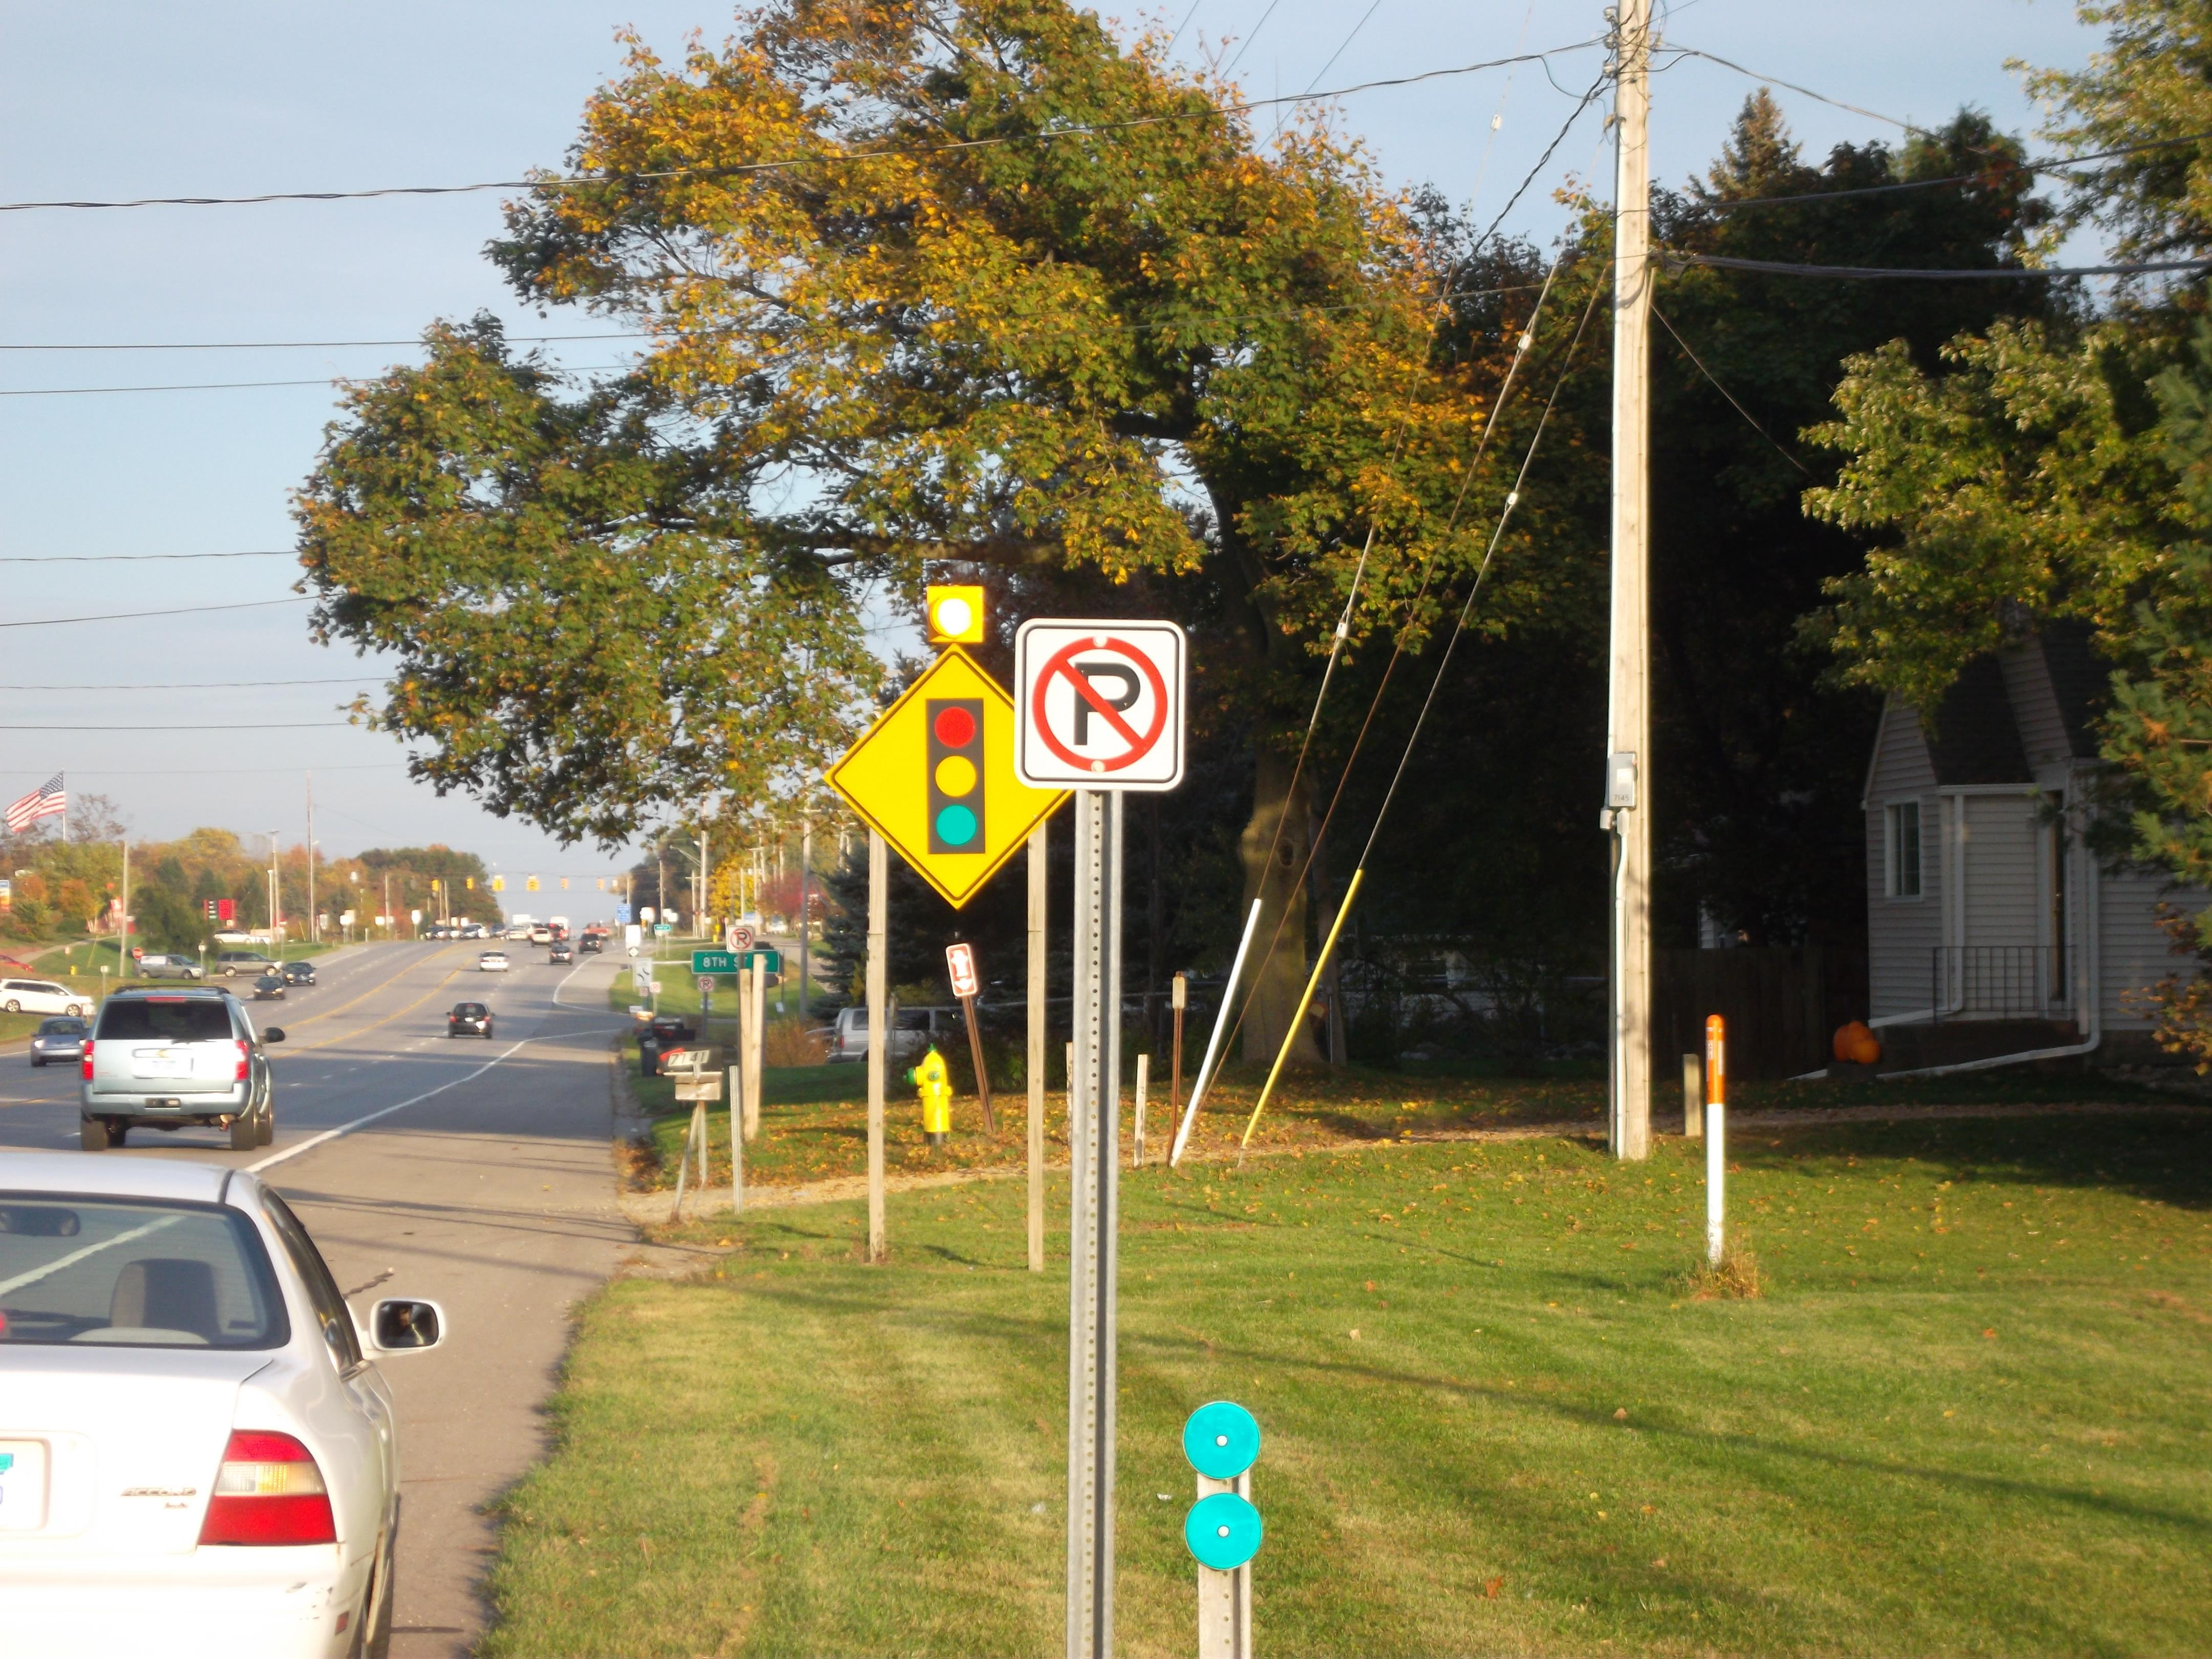regulatory: (1024, 626, 1183, 800)
warning: (819, 655, 1062, 904)
